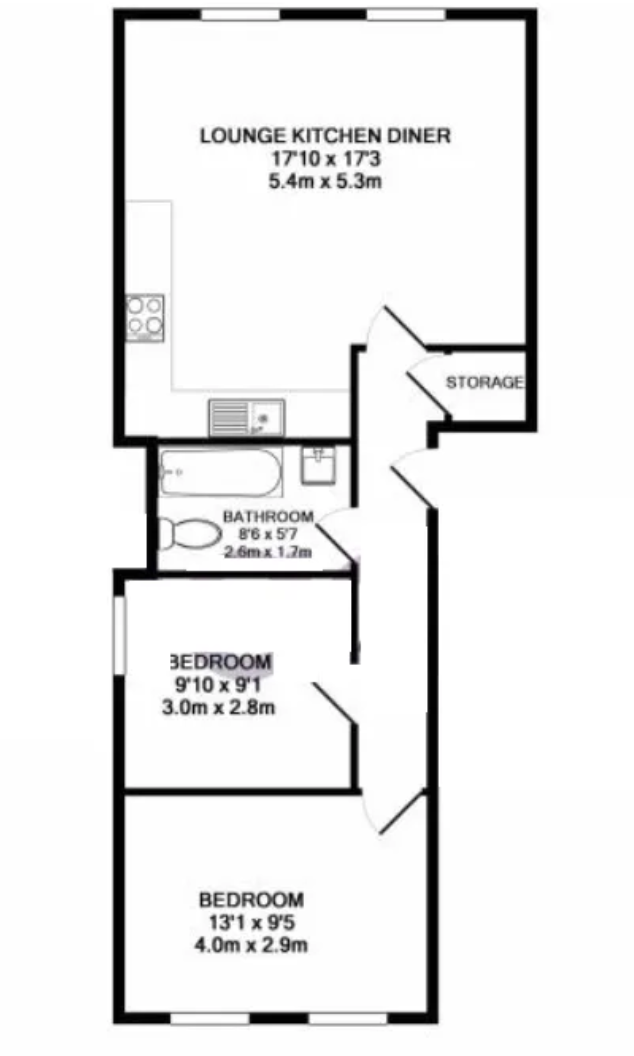basin: (300, 445, 337, 487)
bathtub: (158, 446, 285, 498)
door: (388, 446, 440, 506), (361, 787, 422, 837), (409, 354, 452, 419), (366, 304, 420, 354), (316, 510, 368, 559)
sink: (205, 390, 288, 437)
toilet: (159, 515, 221, 552)
window: (112, 592, 131, 675), (365, 4, 444, 22), (203, 6, 278, 22), (308, 1010, 386, 1025), (170, 1010, 248, 1024)
